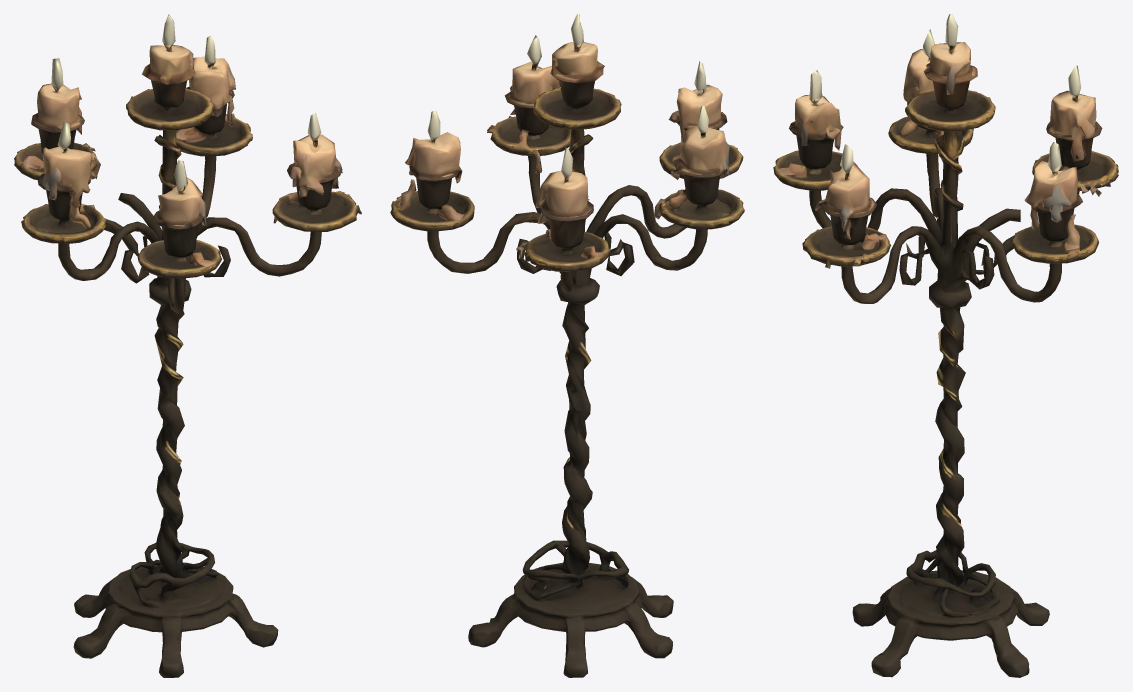
File: arch_candles.glb
3 views of the same model, side by side, from view 1: azimuth 30°, elevation 25°; view 2: azimuth 150°, elevation 25°; view 3: azimuth 270°, elevation 25° (orthographic).
Visible parts, largest first — view 1: tripo_node_bdbef89c-13ce-41cd-965a-bff25cf85426; view 2: tripo_node_bdbef89c-13ce-41cd-965a-bff25cf85426; view 3: tripo_node_bdbef89c-13ce-41cd-965a-bff25cf85426.
Part boxes in pixels (left/top/right/bottom): tripo_node_bdbef89c-13ce-41cd-965a-bff25cf85426: left=14, top=14, right=361, bottom=677; tripo_node_bdbef89c-13ce-41cd-965a-bff25cf85426: left=390, top=14, right=744, bottom=677; tripo_node_bdbef89c-13ce-41cd-965a-bff25cf85426: left=773, top=14, right=1118, bottom=677.
Bounding box in the file's own units: 0.4845 × 1 × 0.4978.
1 material, 1 textured.
